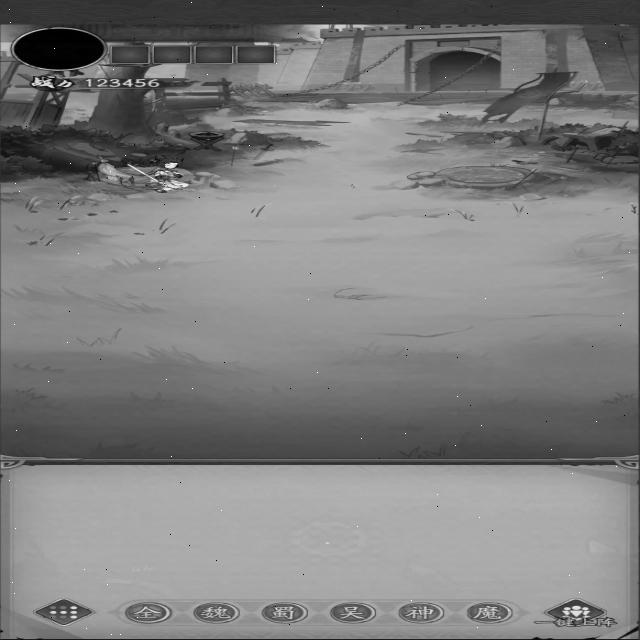operation-camp: (322, 599, 381, 626), (459, 599, 515, 626), (254, 600, 313, 625), (393, 600, 448, 626), (120, 600, 175, 624), (191, 600, 241, 624)
operation-oneKeyDeployment: (528, 597, 626, 632)
